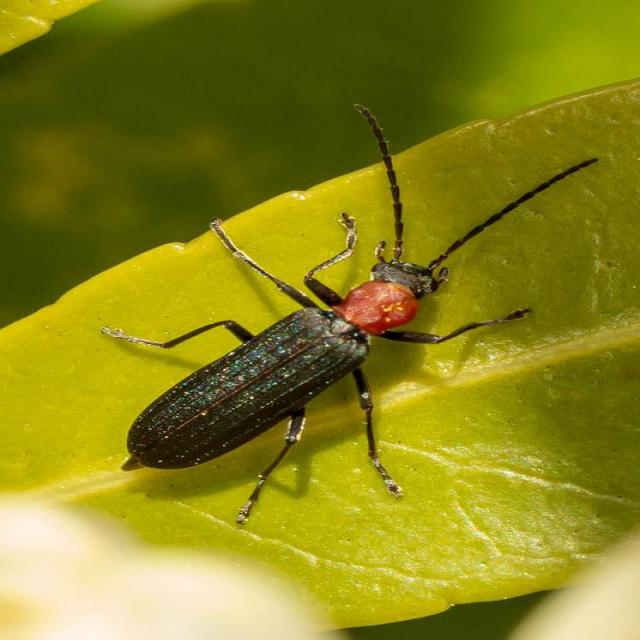BlisterBeetle-Adult-: (95, 100, 597, 528)
